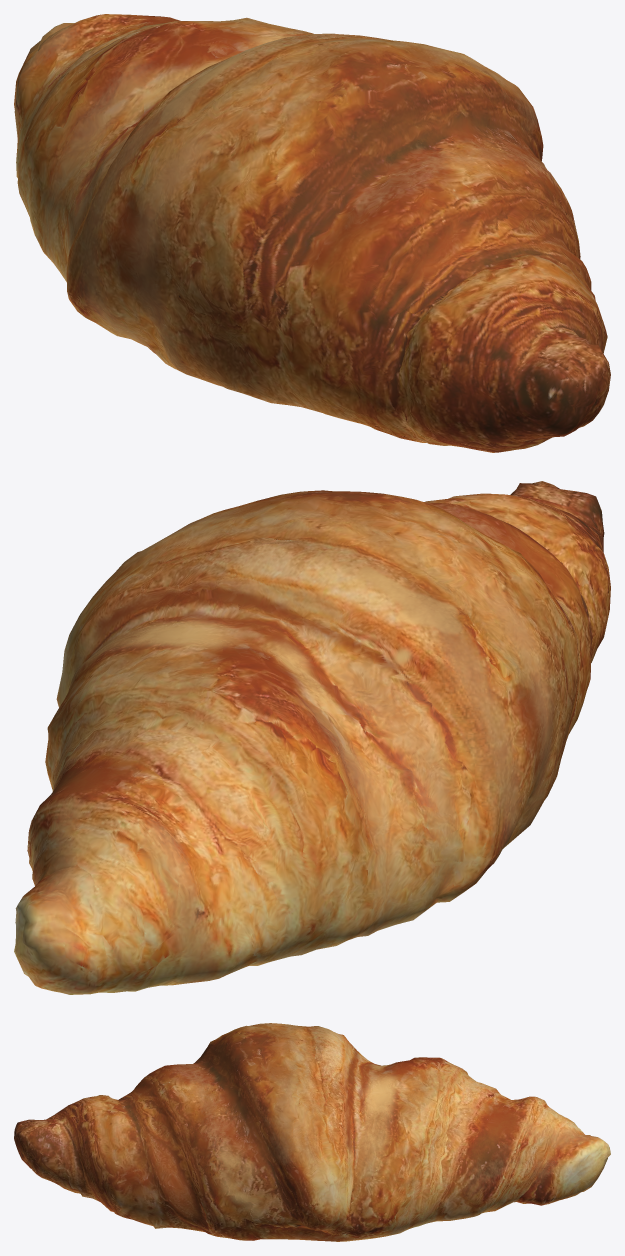
The model's file is croissant.glb.
3 renders of one model, top to bottom at view 1: azimuth 30°, elevation 25°; view 2: azimuth 150°, elevation 25°; view 3: azimuth 270°, elevation 25°, orthographic. The views are drawn at different scales.
Visible parts, largest first — view 1: sm_food_prepared_croissant_a01_mesh_00.001; view 2: sm_food_prepared_croissant_a01_mesh_00.001; view 3: sm_food_prepared_croissant_a01_mesh_00.001.
Part boxes in pixels (<box>): sm_food_prepared_croissant_a01_mesh_00.001: <box>14,14,610,452</box>; sm_food_prepared_croissant_a01_mesh_00.001: <box>14,481,610,994</box>; sm_food_prepared_croissant_a01_mesh_00.001: <box>14,1023,610,1241</box>.
Size of the model in its own units: 0.0669 by 0.0433 by 0.14.
Materials: 1 (1 with a texture image).
